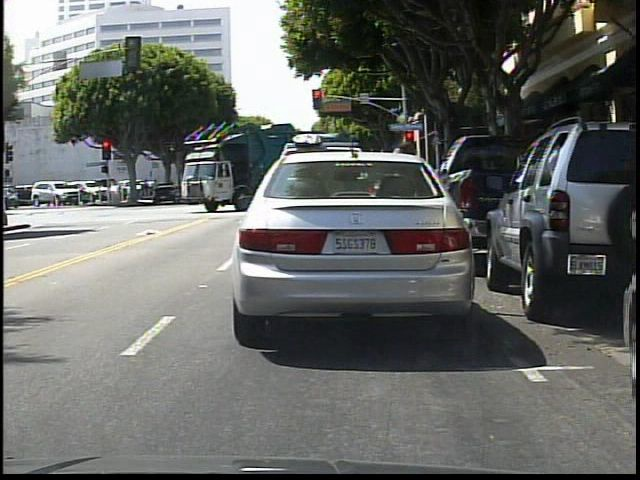person: (386, 138, 428, 276)
